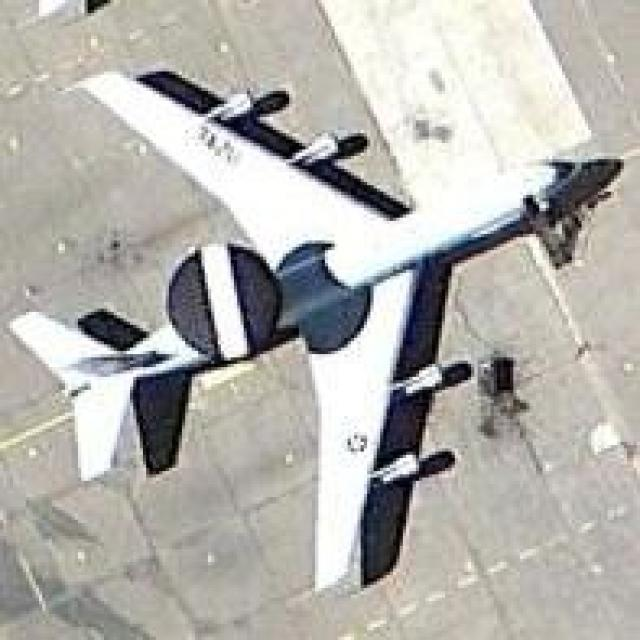E-3_TopDown: (9, 66, 624, 593)
